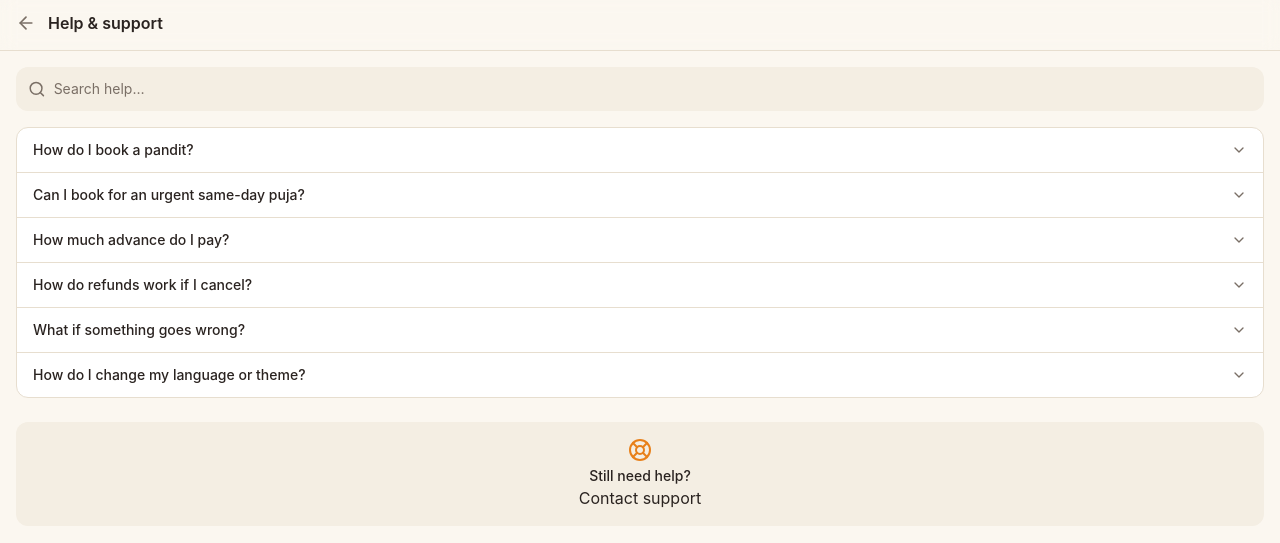
Test case: HelpScreen › filters FAQs by search
The width and height of the screenshot is (1280, 543).
Expected: the text "How do I book a pandit?" is shown, x1=33 y1=141 x2=194 y2=158
Type "refund" into the field named "Search FAQs" at (653, 89), box x1=54 y1=79 x2=1252 y2=99
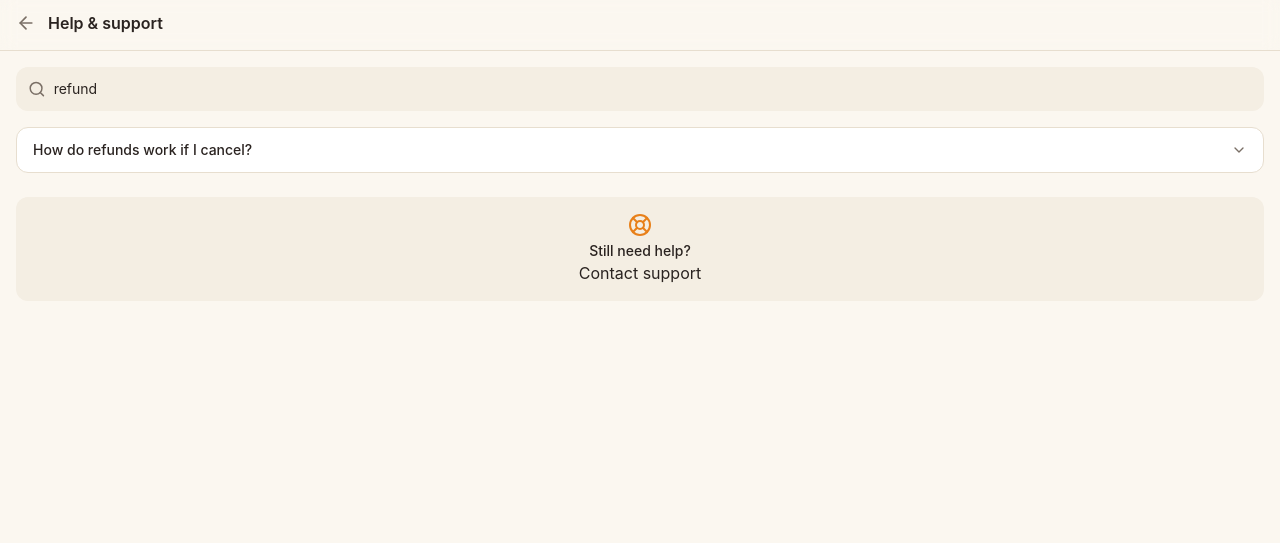
Expected: the text "How do refunds work if I cancel?" is shown, x1=33 y1=141 x2=252 y2=158
Expected: the button "How do I book a pandit?" is gone
